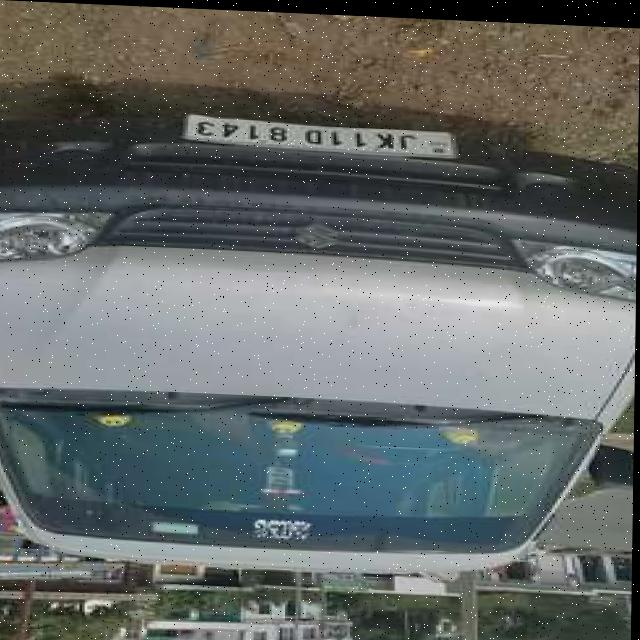plate: (180, 111, 462, 157)
